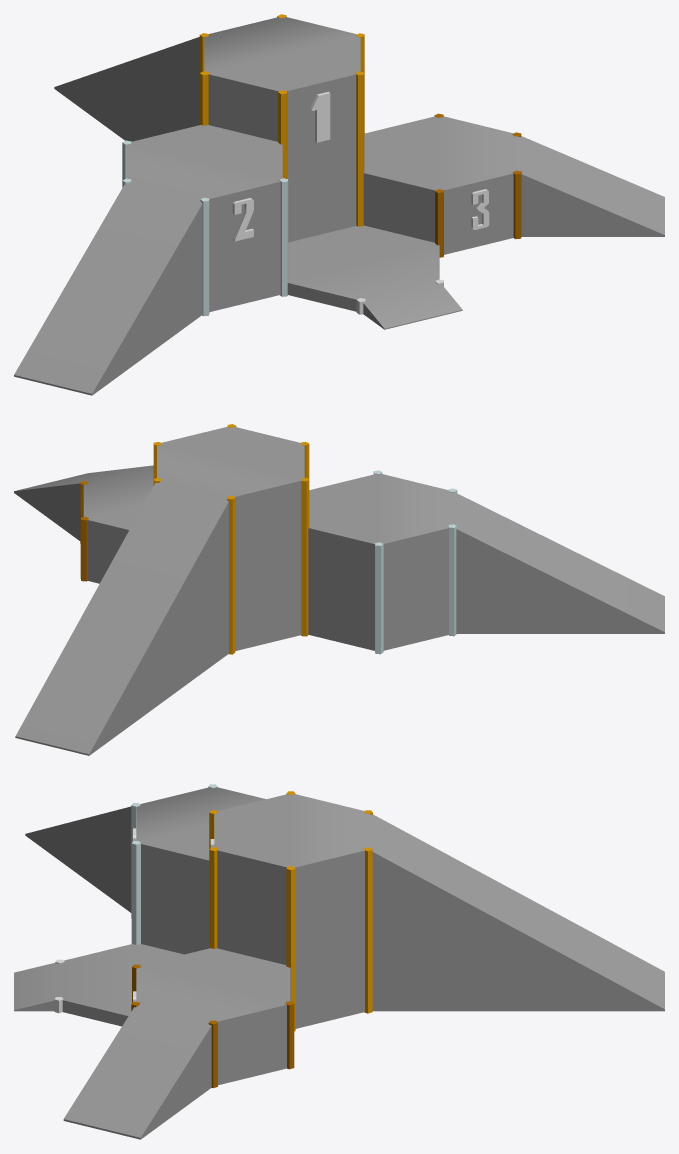
Rendered from SM_victorypodium.fbx.
The picture shows the model from 3 angles, top to bottom: view 1: azimuth 30°, elevation 25°; view 2: azimuth 150°, elevation 25°; view 3: azimuth 270°, elevation 25°; orthographic projection. The views are drawn at different scales.
Visible parts, largest first — view 1: pCylinder2, pCylinder1, pCylinder3, pCylinder4, pCylinder5, pCylinder17, pCylinder18, typeMesh1, pCylinder6, typeMesh2, pCylinder13, pCylinder14; view 2: pCylinder1, pCylinder2, pCylinder3, pCylinder7, pCylinder8, pCylinder20, pCylinder19, pCylinder11; view 3: pCylinder1, pCylinder3, pCylinder2, pCylinder4, pCylinder9, pCylinder10, pCylinder17, pCylinder5, pCylinder11.
Boxes of the visible parts, bbox=[...] form: pCylinder2: bbox=[14, 125, 282, 395]; pCylinder1: bbox=[54, 17, 360, 242]; pCylinder3: bbox=[363, 116, 664, 254]; pCylinder4: bbox=[287, 225, 462, 329]; pCylinder5: bbox=[355, 71, 364, 226]; pCylinder17: bbox=[279, 178, 288, 296]; pCylinder18: bbox=[200, 197, 209, 316]; typeMesh1: bbox=[310, 91, 330, 142]; pCylinder6: bbox=[278, 90, 287, 178]; typeMesh2: bbox=[232, 198, 253, 241]; pCylinder13: bbox=[512, 170, 521, 239]; pCylinder14: bbox=[435, 189, 443, 257]; pCylinder1: bbox=[15, 426, 304, 755]; pCylinder2: bbox=[308, 473, 664, 650]; pCylinder3: bbox=[14, 465, 153, 583]; pCylinder7: bbox=[301, 477, 309, 636]; pCylinder8: bbox=[227, 495, 235, 654]; pCylinder20: bbox=[375, 542, 383, 654]; pCylinder19: bbox=[448, 524, 456, 636]; pCylinder11: bbox=[80, 516, 88, 581]; pCylinder1: bbox=[214, 794, 664, 1028]; pCylinder3: bbox=[63, 948, 290, 1139]; pCylinder2: bbox=[25, 787, 265, 954]; pCylinder4: bbox=[14, 944, 183, 1026]; pCylinder9: bbox=[363, 847, 372, 1013]; pCylinder10: bbox=[286, 866, 295, 1031]; pCylinder17: bbox=[131, 841, 140, 944]; pCylinder5: bbox=[209, 847, 218, 948]; pCylinder11: bbox=[285, 1001, 294, 1069].
Size of the model in its own units: 17.72 by 4.16 by 15.09.
